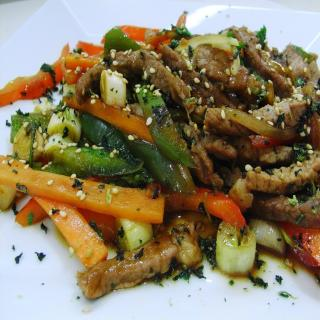Carrot: (9, 27, 320, 310)
Salad: (0, 5, 320, 310)
